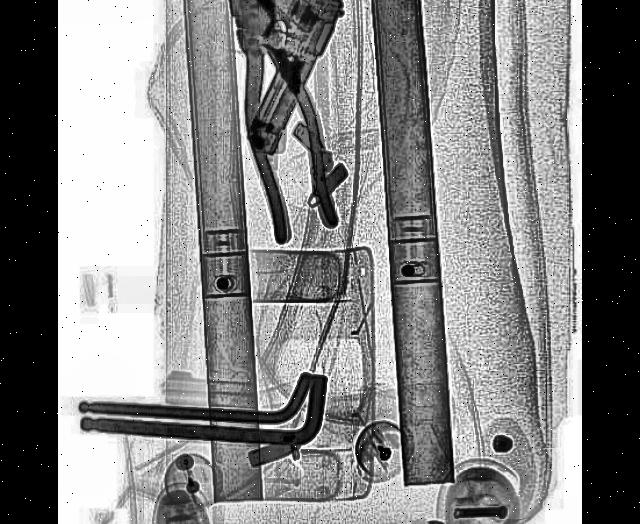Gun: (193, 0, 345, 160)
Pliers: (211, 0, 342, 252)
